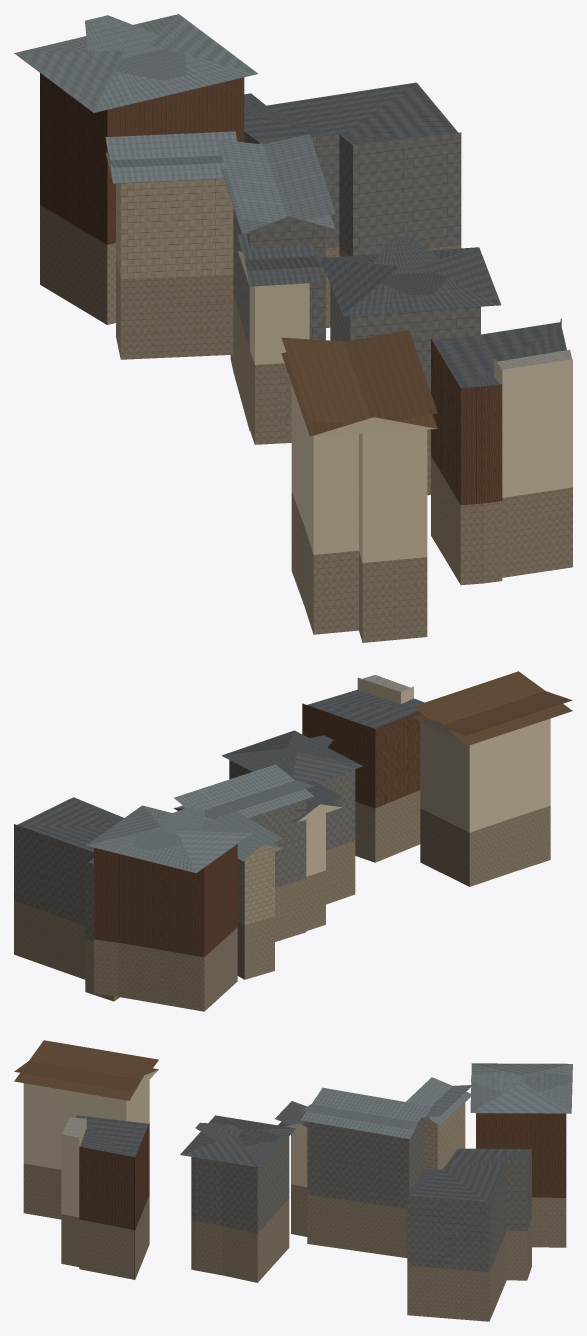
File: bld_c35_-29_448.gltf
3 renders of one model, top to bottom at view 1: azimuth 30°, elevation 25°; view 2: azimuth 150°, elevation 25°; view 3: azimuth 270°, elevation 25°, orthographic. The views are drawn at different scales.
Visible parts, largest first — view 1: bld_c35_-29_448; view 2: bld_c35_-29_448; view 3: bld_c35_-29_448.
Boxes of the visible parts, x1,y1,x2,y2 form: bld_c35_-29_448: (14, 14, 572, 642); bld_c35_-29_448: (14, 671, 572, 1011); bld_c35_-29_448: (14, 1040, 572, 1321).
Bounding box in the file's own units: 31.05 × 17.2 × 51.96.
13 materials, 13 textured.
